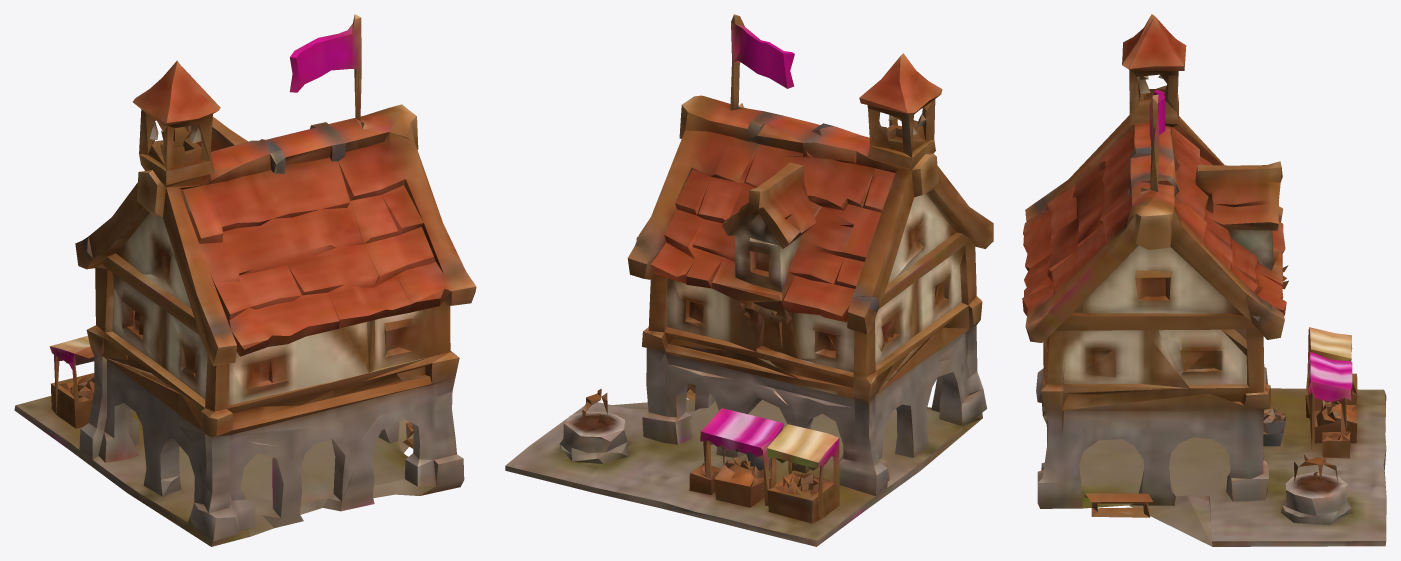
Rendered from village2.lod2.glb.
The picture shows the model from 3 angles, left to right: view 1: azimuth 30°, elevation 25°; view 2: azimuth 150°, elevation 25°; view 3: azimuth 270°, elevation 25°; orthographic projection. The views are drawn at different scales.
Visible parts, largest first — view 1: village2.lod2_uv; view 2: village2.lod2_uv; view 3: village2.lod2_uv.
Boxes of the visible parts, bbox=[...] form: village2.lod2_uv: bbox=[14, 14, 476, 546]; village2.lod2_uv: bbox=[505, 14, 993, 546]; village2.lod2_uv: bbox=[1022, 14, 1386, 546].
Size of the model in its own units: 1.55 by 1.89 by 1.57.
1 material, 1 textured.
